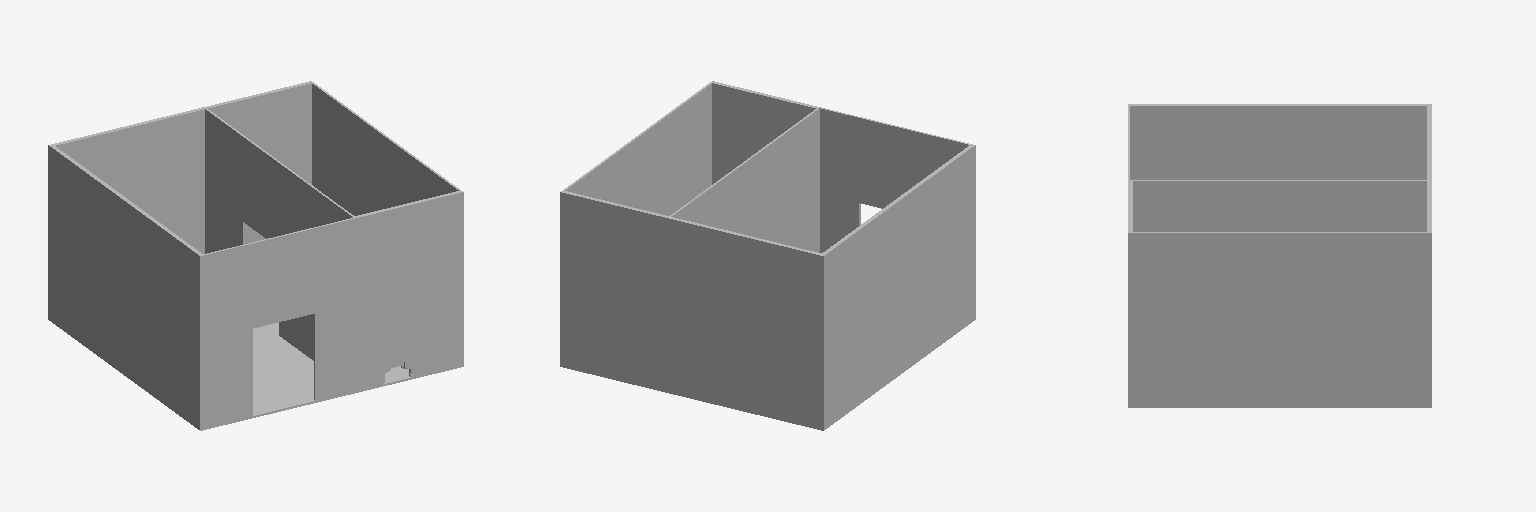
Rendered from 2x2sec (3)-1.obj.
The picture shows the model from 3 angles: view 1: azimuth 30°, elevation 25°; view 2: azimuth 150°, elevation 25°; view 3: azimuth 270°, elevation 25°; orthographic projection.
Visible parts, largest first — view 1: 2x2sec (3)-1; view 2: 2x2sec (3)-1; view 3: 2x2sec (3)-1.
Boxes of the visible parts, x1=… form: 2x2sec (3)-1: x1=48, y1=81, x2=463, y2=430; 2x2sec (3)-1: x1=560, y1=81, x2=975, y2=430; 2x2sec (3)-1: x1=1128, y1=104, x2=1431, y2=407.
Size of the model in its own units: 126 by 80 by 126.